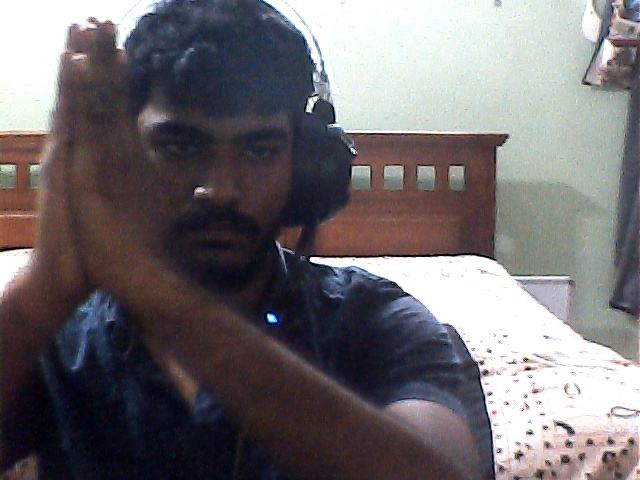Sign: (22, 13, 163, 325)
